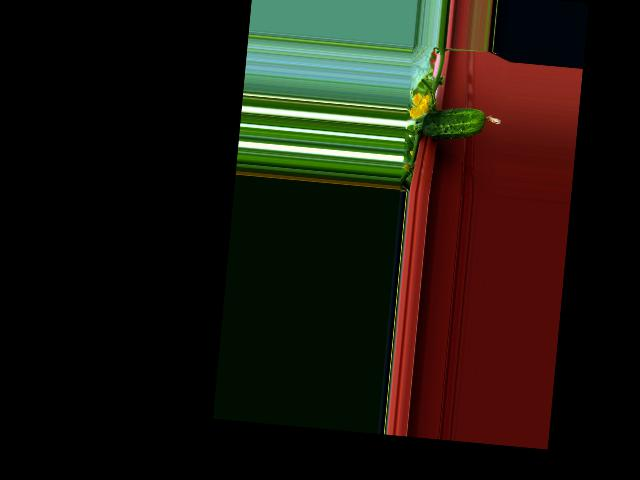cucumber: (420, 103, 502, 144)
